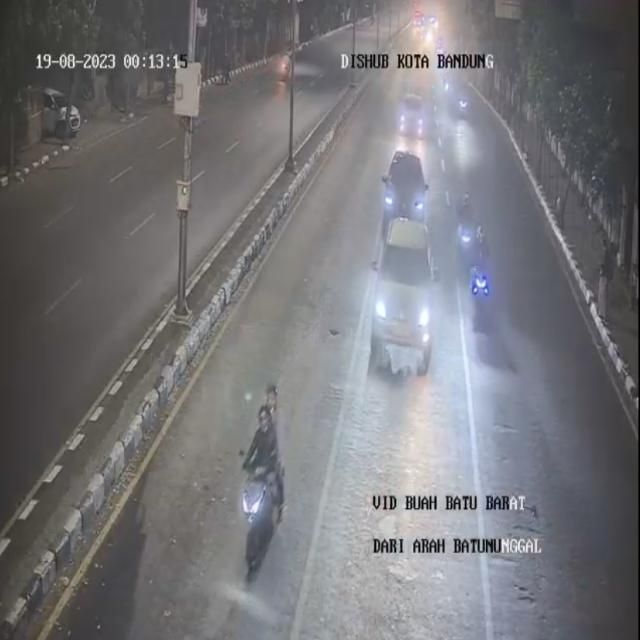cars: (376, 216, 434, 368), (383, 148, 427, 245), (401, 90, 426, 140)
motorcycle: (231, 384, 292, 572), (469, 228, 496, 326), (456, 188, 474, 276)
